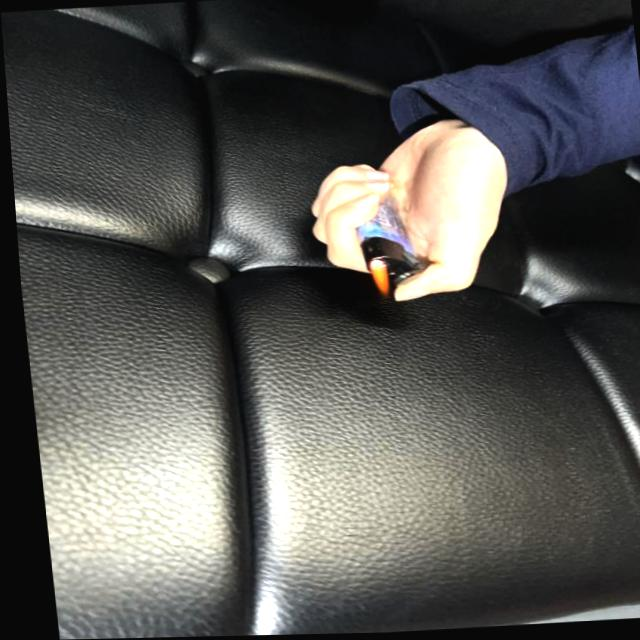Fire: (365, 259, 386, 298)
